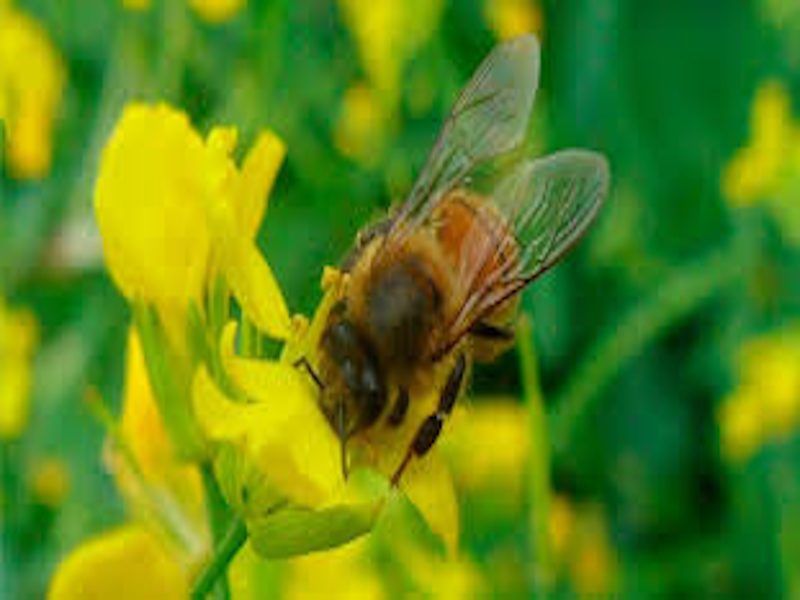abeja: (260, 19, 632, 490)
